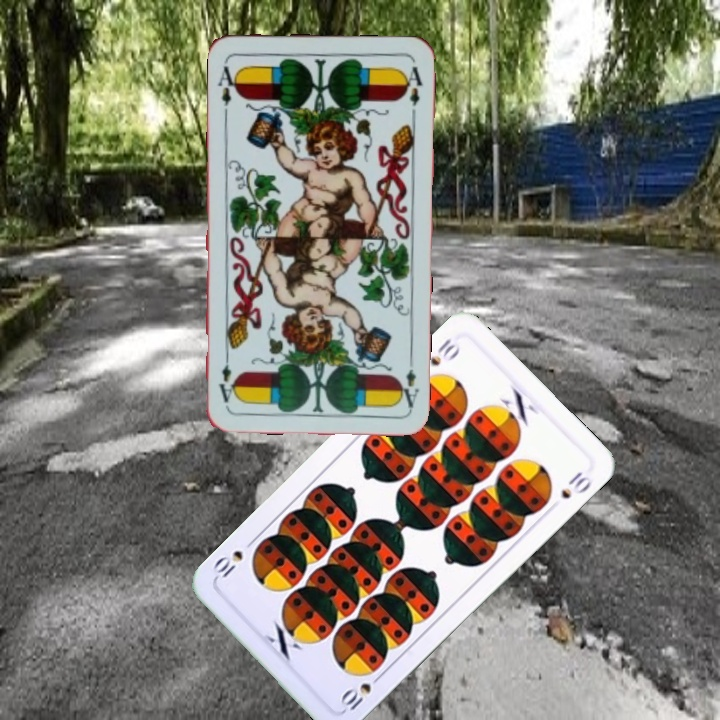EA: (395, 351, 422, 410), (214, 62, 241, 117)
S10: (336, 669, 386, 714), (426, 334, 463, 369)
